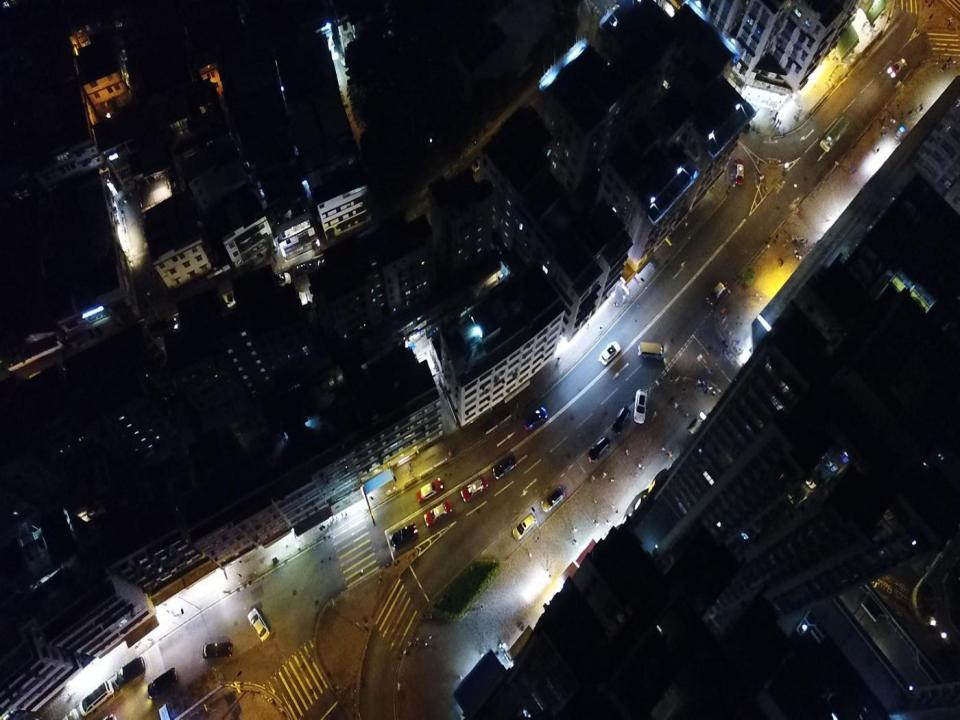bus: (819, 115, 850, 153), (638, 341, 664, 359)
car: (147, 667, 178, 700), (114, 655, 145, 687), (423, 498, 453, 527), (460, 474, 489, 503), (247, 607, 270, 642), (416, 476, 444, 503), (492, 452, 518, 481), (540, 485, 566, 513), (149, 315, 178, 340), (391, 520, 417, 547), (511, 513, 536, 541), (586, 436, 611, 463), (611, 404, 631, 436), (522, 406, 548, 430), (705, 279, 729, 305), (202, 641, 233, 659), (598, 341, 620, 365), (633, 387, 647, 424), (216, 292, 238, 312), (294, 260, 316, 280), (887, 58, 908, 76), (271, 272, 291, 290), (733, 158, 745, 187)
van: (78, 678, 115, 717)
